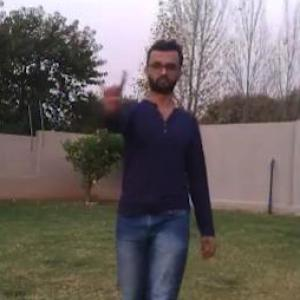takeoff-hand: (94, 53, 130, 106)
